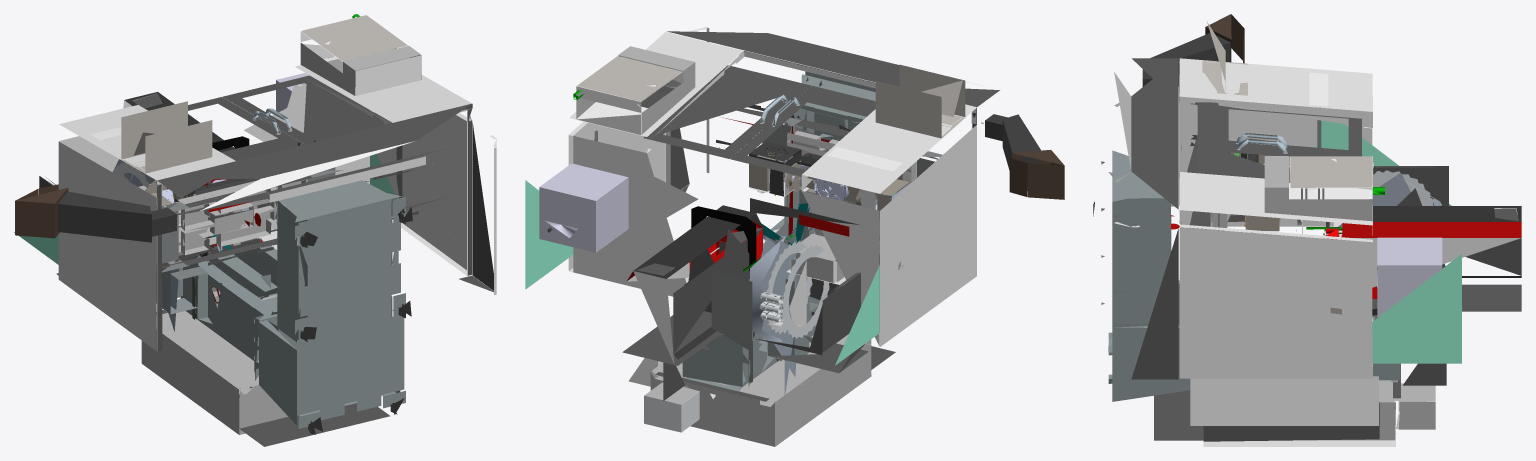
3 renders of one model, left to right at view 1: azimuth 30°, elevation 25°; view 2: azimuth 150°, elevation 25°; view 3: azimuth 270°, elevation 25°, orthographic.
Visible parts, largest first — view 1: 37-0278-DEF, 37-4938-DEF, 37-0059-DEF, CONV-SHELF-VF-SM, ENCLOSURE EXHAUST SYSTEM, 37-0400-DEF-main, 10000095056_defeature, 37-2091-DEF-4, 37-0400-SIDE DOORS-main, 37-3531-DEF; view 2: 37-4938-DEF, 37-0059-DEF, 37-0278-DEF, ENCLOSURE EXHAUST SYSTEM, CONV-SHELF-VF-SM, 37-2091-DEF-4, 37-0400-DEF-main, 37-0400-SIDE DOORS-main, 37-3531-DEF, 10000095056_defeature, TRT-160_2, 37-3531-ARM-DEF (+1 smaller); view 3: 37-4938-DEF, 37-0059-DEF, 37-0278-DEF, 37-0400-DEF-main, 37-0400-SIDE DOORS-main, ENCLOSURE EXHAUST SYSTEM, CONV-SHELF-VF-SM, 37-2091-DEF-4, 10000095056_defeature, 37-3531-DEF, TRT-160_2, 37-0400-LEFT DOOR.
Boxes of the visible parts, box(x1,y1,x2,y2) form: 37-0278-DEF: box(118, 43, 421, 434); 37-4938-DEF: box(58, 65, 496, 351); 37-0059-DEF: box(39, 75, 493, 446); CONV-SHELF-VF-SM: box(121, 15, 407, 173); ENCLOSURE EXHAUST SYSTEM: box(57, 72, 313, 242); 37-0400-DEF-main: box(91, 31, 420, 150); 10000095056_defeature: box(15, 184, 68, 238); 37-2091-DEF-4: box(112, 92, 412, 434); 37-0400-SIDE DOORS-main: box(14, 57, 396, 264); 37-3531-DEF: box(115, 160, 179, 331); 37-4938-DEF: box(568, 27, 983, 398); 37-0059-DEF: box(622, 31, 999, 431); 37-0278-DEF: box(576, 46, 942, 446); ENCLOSURE EXHAUST SYSTEM: box(539, 114, 1040, 252); CONV-SHELF-VF-SM: box(577, 56, 965, 138); 37-2091-DEF-4: box(633, 205, 829, 432); 37-0400-DEF-main: box(576, 55, 902, 386); 37-0400-SIDE DOORS-main: box(525, 180, 879, 365); 37-3531-DEF: box(749, 235, 803, 397); 10000095056_defeature: box(1009, 150, 1064, 199); TRT-160_2: box(749, 147, 910, 219); 37-3531-ARM-DEF: box(742, 164, 848, 272); 37-4938-DEF: box(1114, 58, 1520, 446); 37-0059-DEF: box(1131, 58, 1521, 441); 37-0278-DEF: box(1101, 107, 1521, 440); 37-0400-DEF-main: box(1190, 72, 1378, 425); 37-0400-SIDE DOORS-main: box(1321, 120, 1461, 363); ENCLOSURE EXHAUST SYSTEM: box(1142, 33, 1442, 316); CONV-SHELF-VF-SM: box(1202, 22, 1372, 187); 37-2091-DEF-4: box(1093, 170, 1521, 428); 10000095056_defeature: box(1205, 14, 1244, 63); 37-3531-DEF: box(1338, 173, 1440, 227); TRT-160_2: box(1227, 136, 1280, 233); 37-0400-LEFT DOOR: box(1236, 133, 1287, 152).
Bounding box in the file's own units: 3.16 × 2.24 × 2.72.
